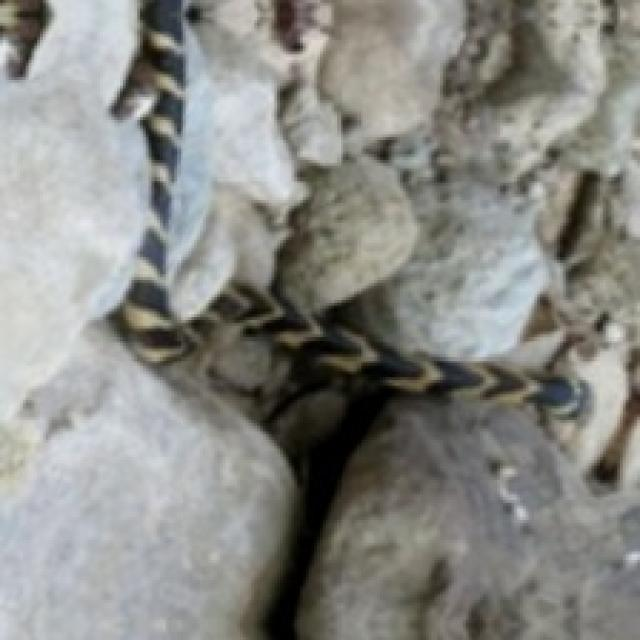king cobra: (111, 1, 590, 418)
